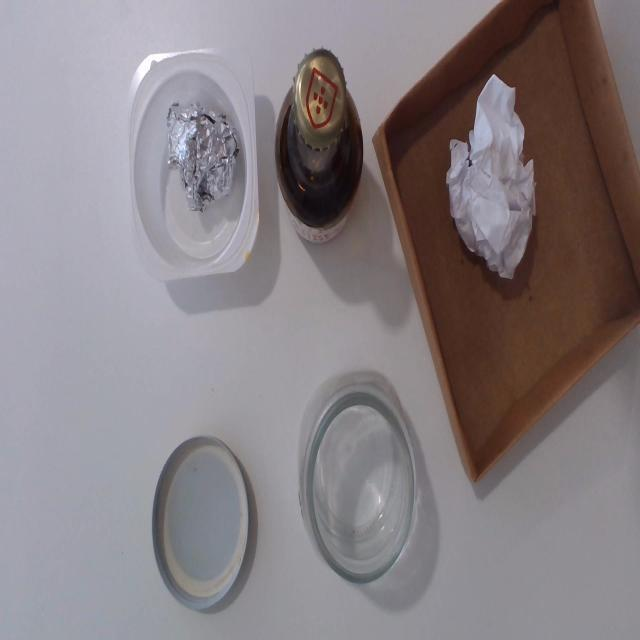Glass: (291, 372, 426, 603), (275, 39, 364, 250)
Paper: (447, 71, 537, 288)
